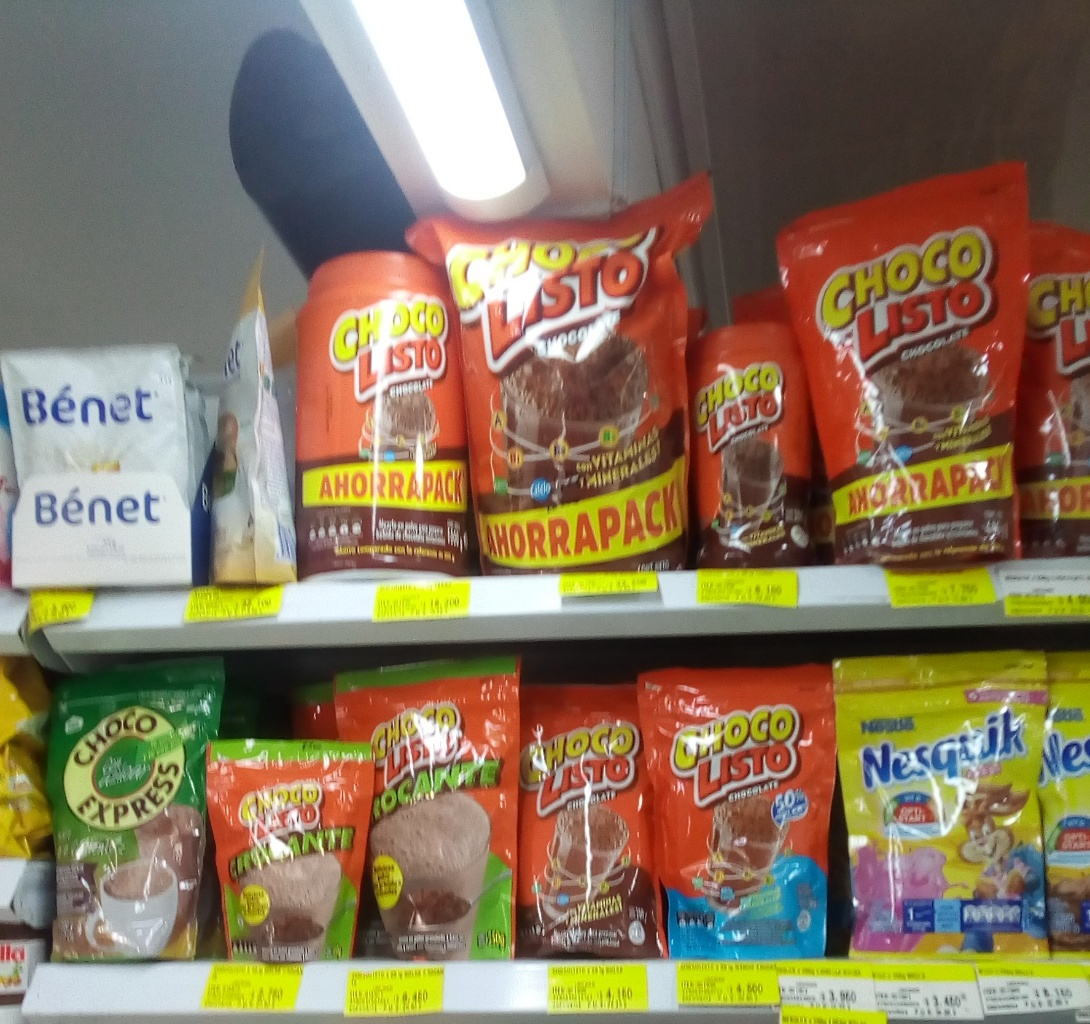COL0170102DYP10000: (206, 736, 377, 958)
COL0170102DYP25000: (333, 658, 523, 962)
COL0170103DYP1,500: (394, 183, 713, 577)
COL0170103DYP20000: (511, 685, 669, 962)
COL0170103DYP40000: (770, 183, 1026, 570)
COL0170103TRR00100: (301, 242, 473, 578)
COL0170103TRR30000: (681, 317, 828, 571)
COL0170104DYP20000: (636, 664, 837, 962)
COL0170305DYP20000: (833, 652, 1050, 958)
